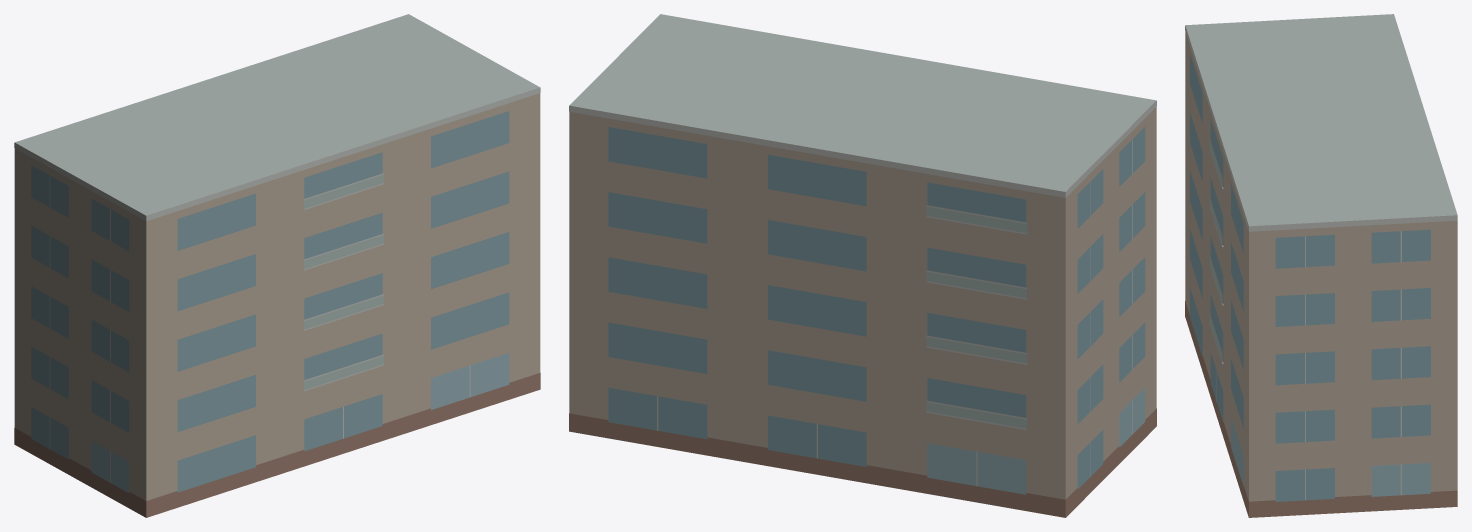
Rendered from survey-upis-32707566.glb.
3 renders of one model, left to right at view 1: azimuth 30°, elevation 25°; view 2: azimuth 150°, elevation 25°; view 3: azimuth 270°, elevation 25°, orthographic. The views are drawn at different scales.
Visible parts, largest first — view 1: survey-upis-32707566.tmp; view 2: survey-upis-32707566.tmp; view 3: survey-upis-32707566.tmp.
Boxes of the visible parts, x1=… form: survey-upis-32707566.tmp: x1=14, y1=14, x2=540, y2=517; survey-upis-32707566.tmp: x1=569, y1=14, x2=1156, y2=517; survey-upis-32707566.tmp: x1=1185, y1=14, x2=1457, y2=517.
Size of the model in its own units: 20.62 by 13.2 by 11.19.
